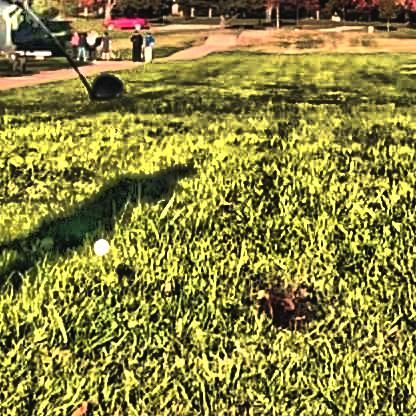golfball: (90, 233, 107, 252)
